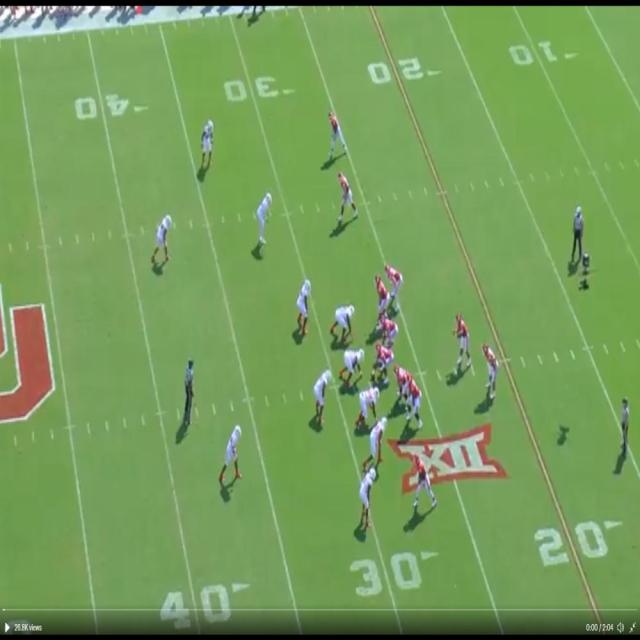center: (375, 342, 394, 380)
db: (361, 464, 378, 532), (225, 424, 242, 486), (154, 212, 172, 264), (257, 190, 270, 248), (204, 115, 214, 168)
lb: (316, 368, 332, 420), (299, 278, 313, 332)
qb: (456, 313, 469, 367)
skill: (338, 168, 360, 224), (414, 451, 433, 509), (327, 106, 344, 160), (482, 343, 498, 400), (385, 263, 402, 302), (376, 274, 394, 305)
